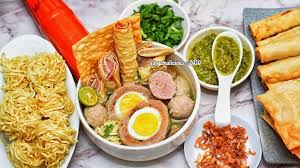bakso: (54, 24, 210, 159)
